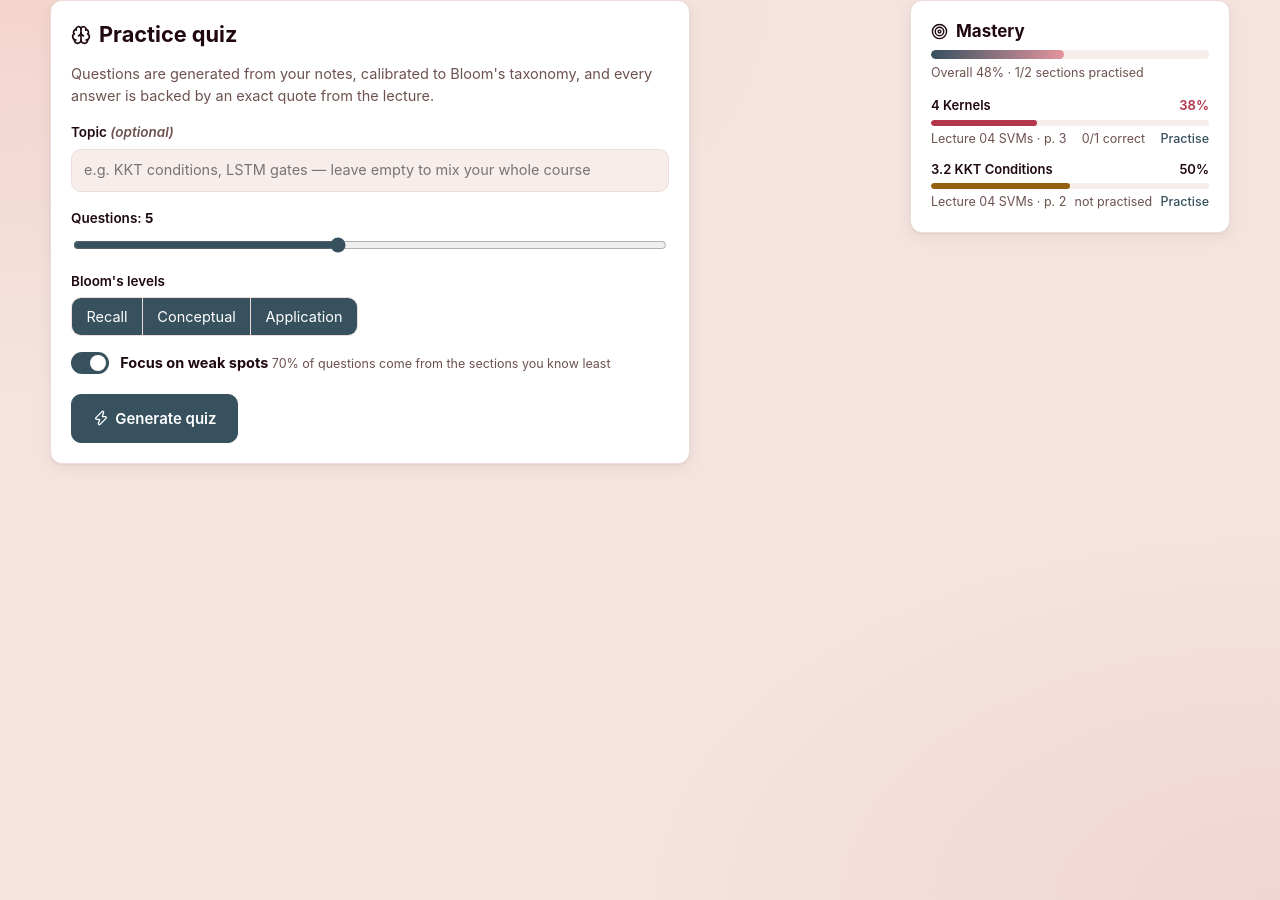
Test: Quiz › lists weak spots sorted by mastery and practises a section
Expected: the list item with test id "mastery-row" shows "4 Kernels", [931,97,991,113]
Expected: the list item with test id "mastery-row" shows "38%", [1179,97,1209,113]
Click the button "Practise" next to "0/1 correct": click(1185, 138) [1160,128,1209,148]
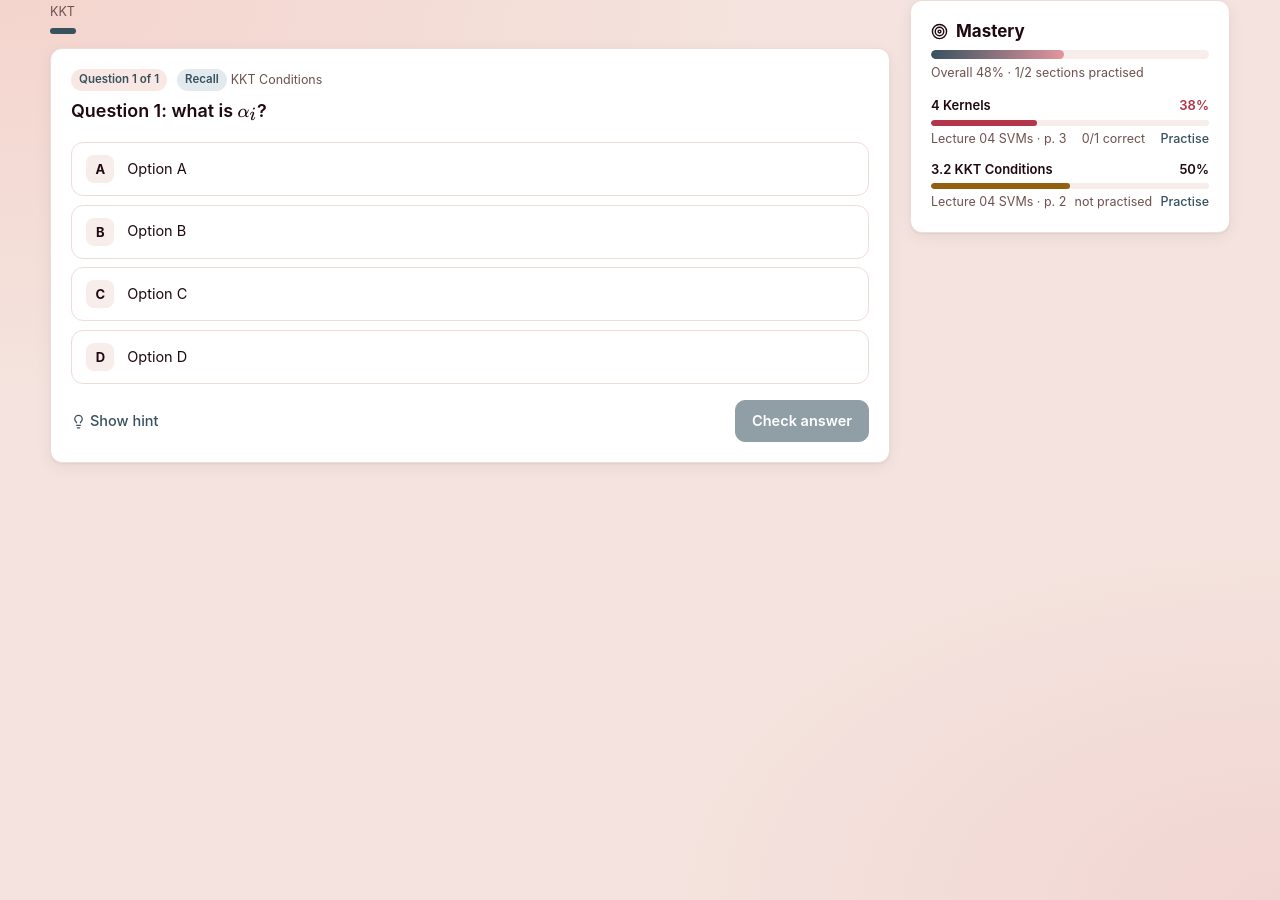
Result: the element with test id "question-card" is shown at [50,48,890,463]
